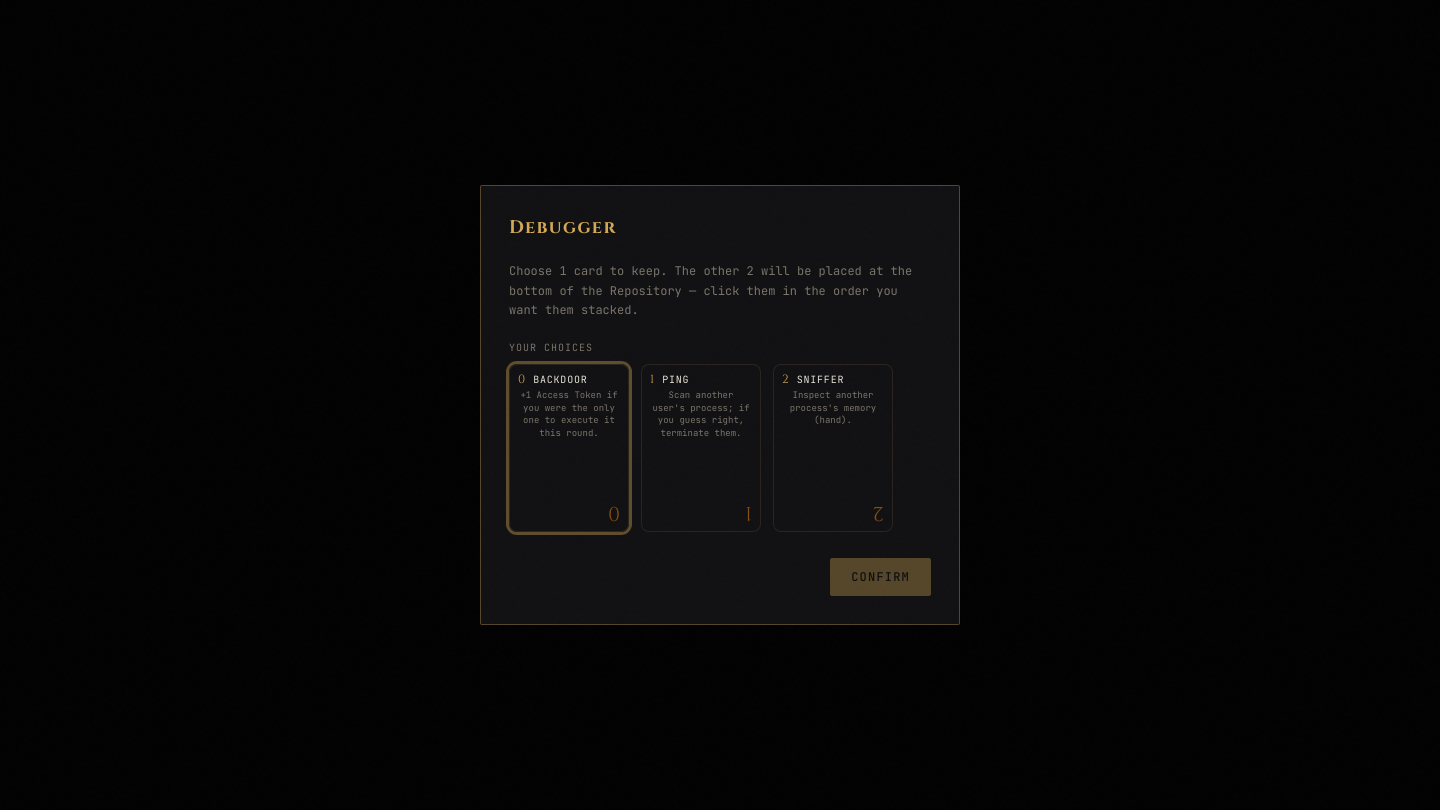
Test: DebuggerModal › deselects a return card when clicked again
Click the button with test id "card" that starts with "BACKDOOR" at x=569, y=448, box [509,364,629,532]
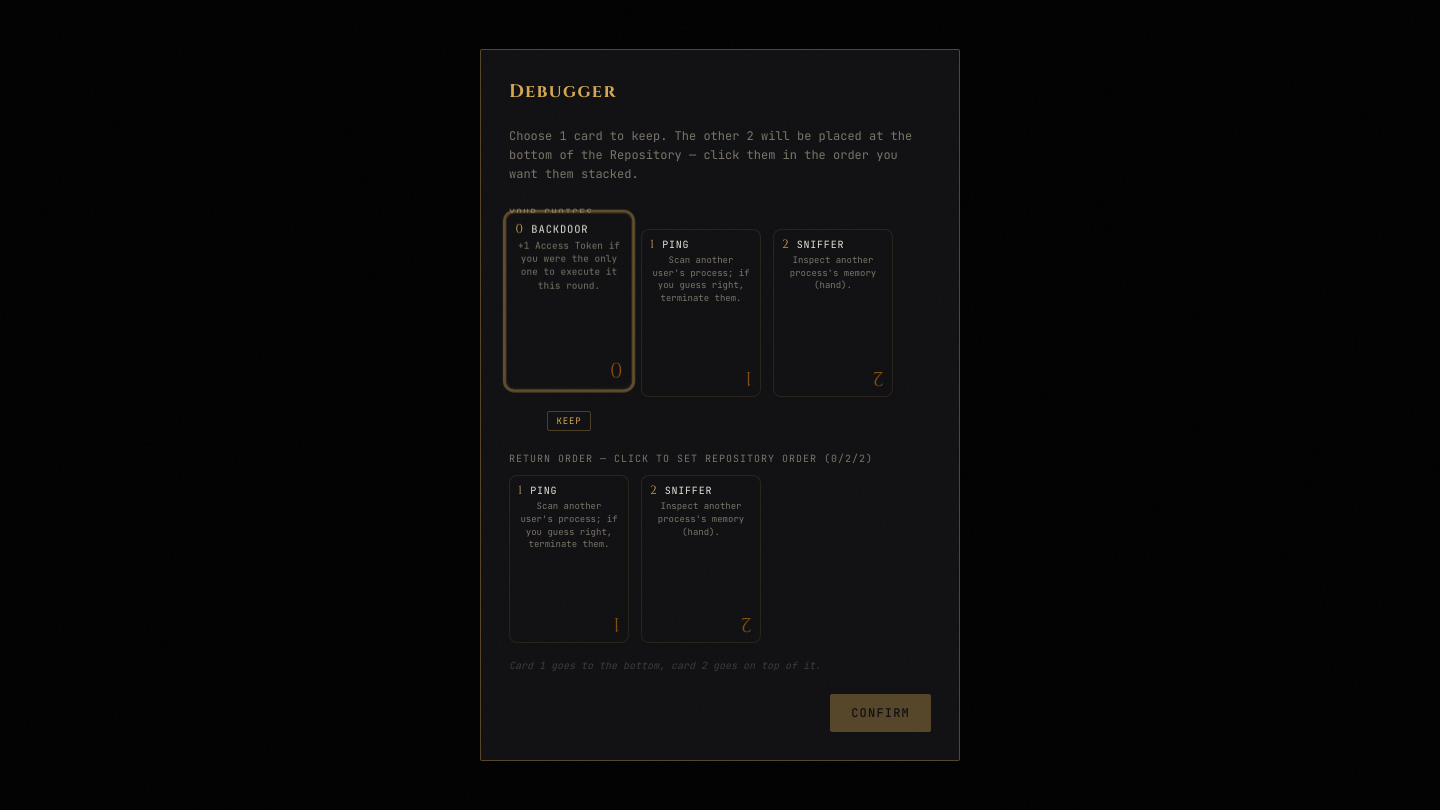
Click the 4th button with test id "card" at x=569, y=559, box [509,475,629,643]
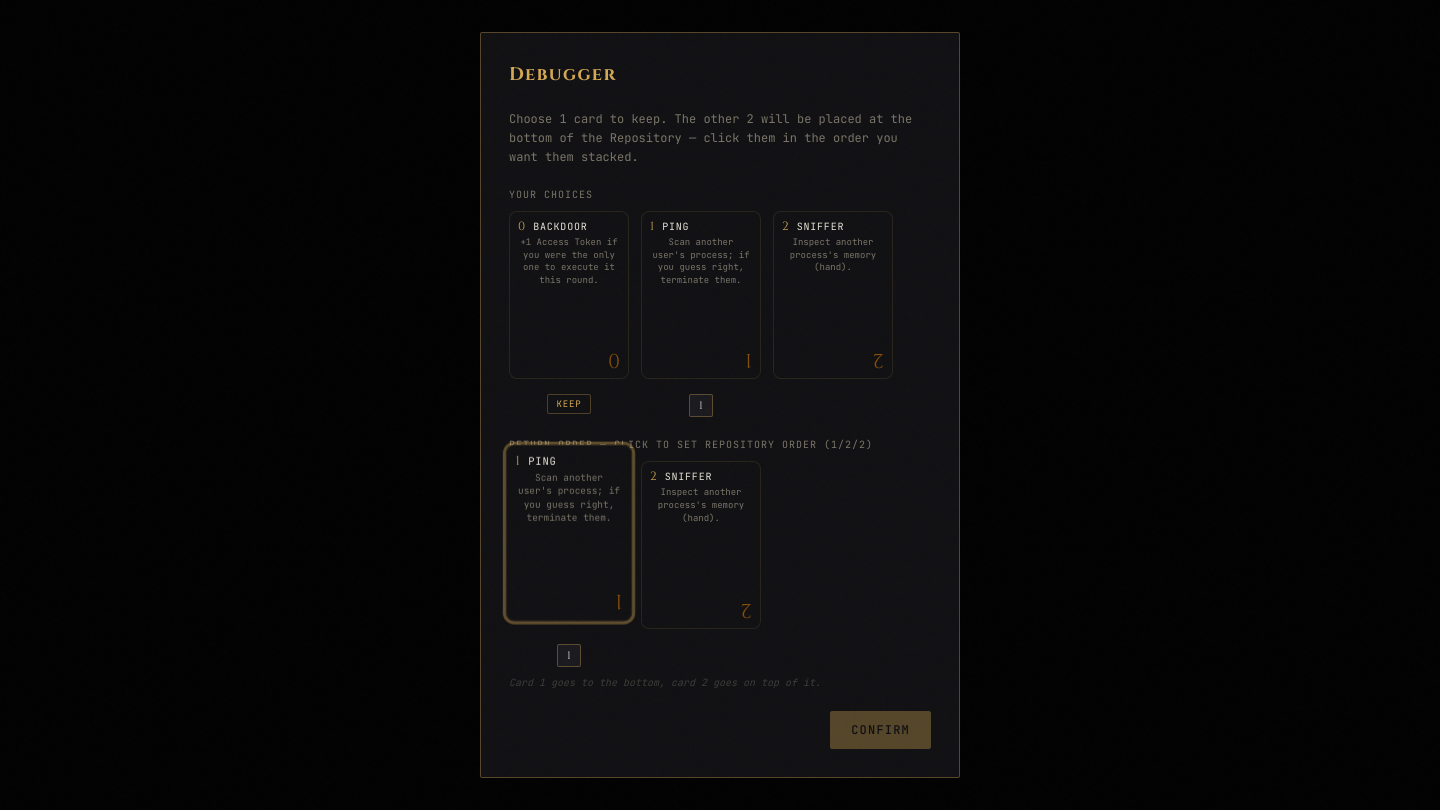
Check: the number of elements with test id "return-order-1" is 2, box [689,394,713,417]; [557,644,581,667]
Click the 4th button with test id "card" at x=569, y=533, box [506,445,632,621]
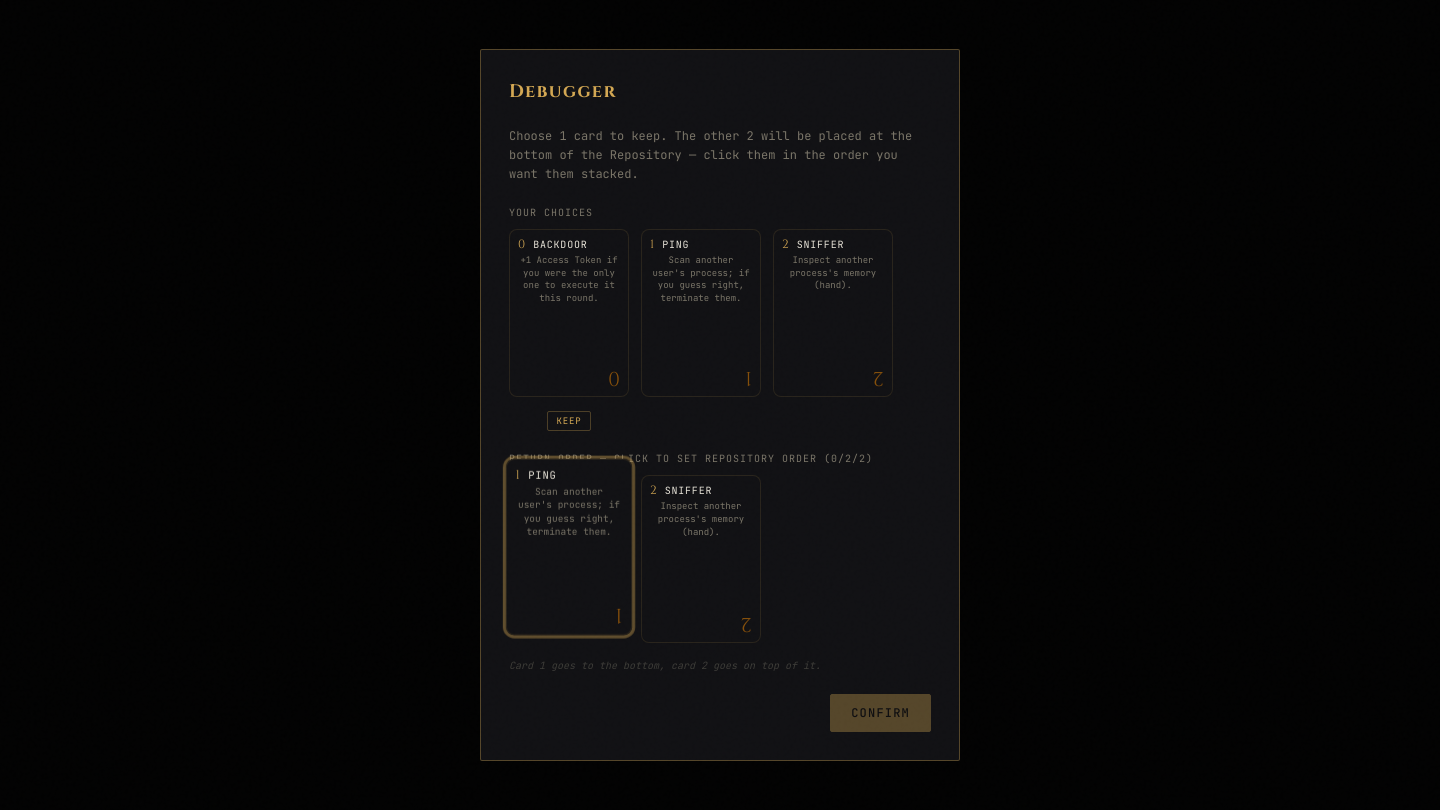
Check: the button "Confirm" is disabled, box [830,694,931,732]
Check: the text with test id "return-order-1" is gone
